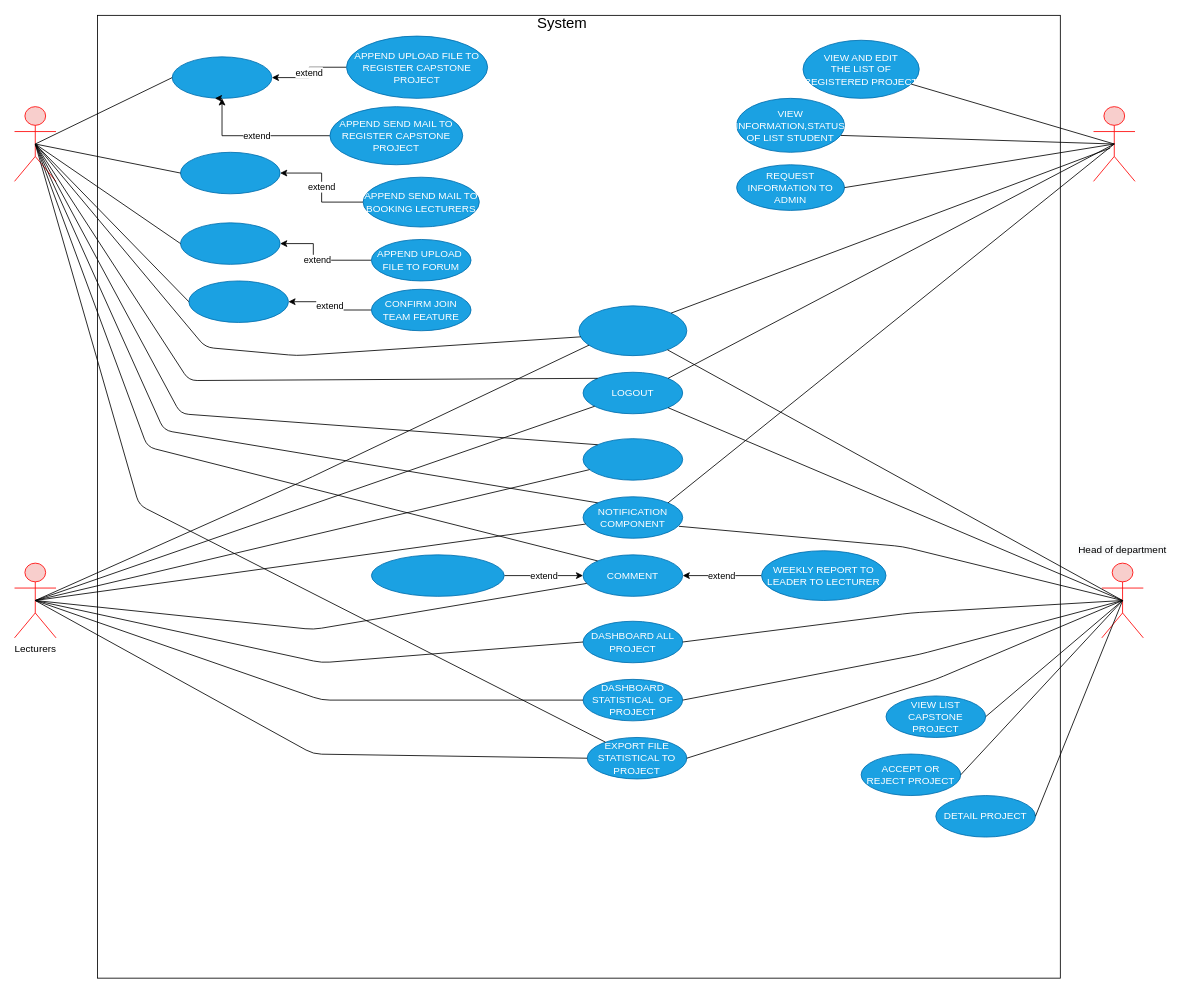
The diagram is 1199 pixels wide and 993 high, and some of its shapes have lost their labels. Here are the shapes that lost their labels. From the top down, the centre of each, then its label:
At (x=221, y=77): "REGISTER CAPSTONE PROJECT".
At (x=35, y=143): "Student".
At (x=1114, y=143): "Trainning_dep".
At (x=230, y=172): "SHOW LIST LECTURER AND BOOKING".
At (x=230, y=243): "FORUM".
At (x=238, y=301): "CREATE GROUP FOR CHATTING".
At (x=632, y=330): "LOGIN".
At (x=632, y=459): "VIEW DETAIL INFORMATION OF USER".
At (x=437, y=575): "DAILY REPORT TO MEMBER TO LEADER".
